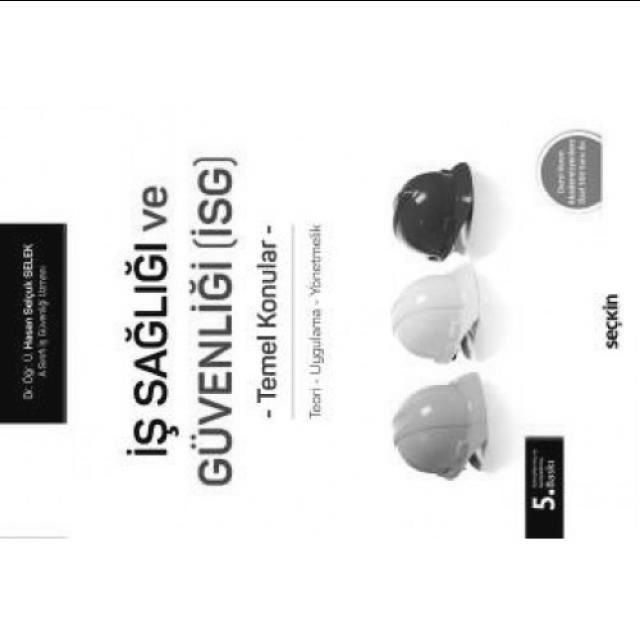construction helmet: (392, 367, 492, 481), (389, 261, 484, 360), (393, 160, 475, 261)
